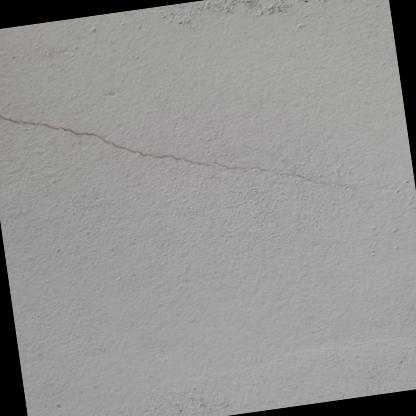crack: (0, 110, 353, 188)
